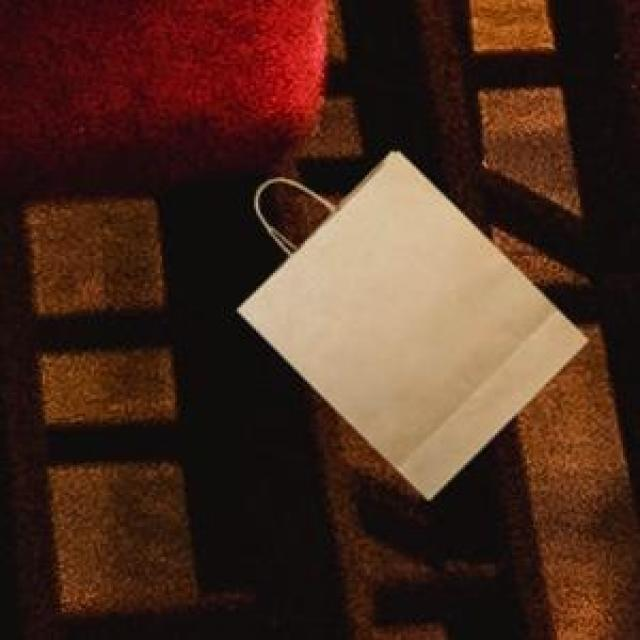paper: (233, 147, 582, 495)
